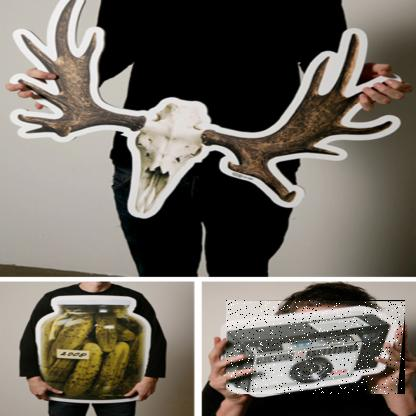Camera: (227, 301, 407, 396)
